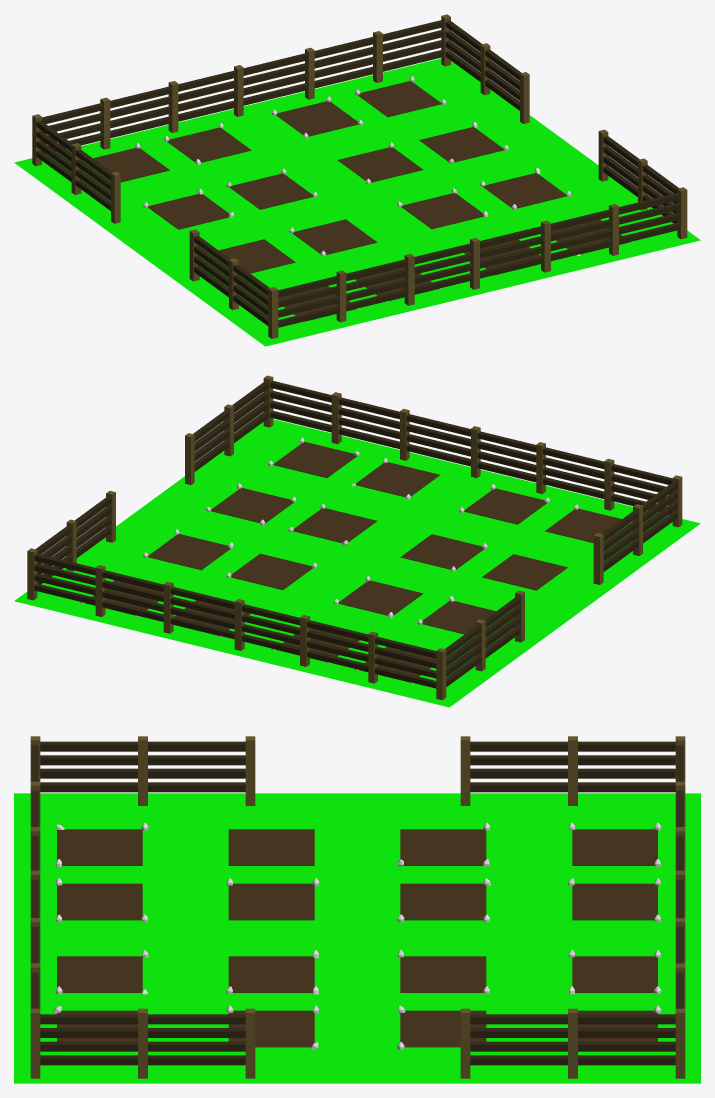
The model's file is Farm.fbx.
3 views of the same model, one above another, from view 1: azimuth 30°, elevation 25°; view 2: azimuth 150°, elevation 25°; view 3: azimuth 270°, elevation 25° (orthographic). The views are drawn at different scales.
Parts seen in each view (by area): view 1: Tile, Fence2, Farmland, Fence1, Sticks; view 2: Tile, Fence2, Farmland, Fence1, Sticks; view 3: Tile, Farmland, Fence2, Fence1, Sticks.
Part boxes in pixels (bbox=[...]): Tile: bbox=[14, 58, 700, 346]; Fence2: bbox=[36, 20, 680, 327]; Farmland: bbox=[93, 81, 630, 321]; Fence1: bbox=[32, 14, 687, 338]; Sticks: bbox=[82, 76, 633, 322]; Tile: bbox=[14, 419, 700, 707]; Fence2: bbox=[34, 381, 677, 688]; Farmland: bbox=[85, 441, 621, 682]; Fence1: bbox=[27, 375, 682, 700]; Sticks: bbox=[80, 437, 632, 683]; Tile: bbox=[14, 793, 700, 1083]; Farmland: bbox=[57, 829, 657, 1047]; Fence2: bbox=[31, 741, 683, 1065]; Fence1: bbox=[30, 736, 685, 1078]; Sticks: bbox=[53, 822, 661, 1049].
Bounding box in the file's own units: 1600 × 184 × 1600.
